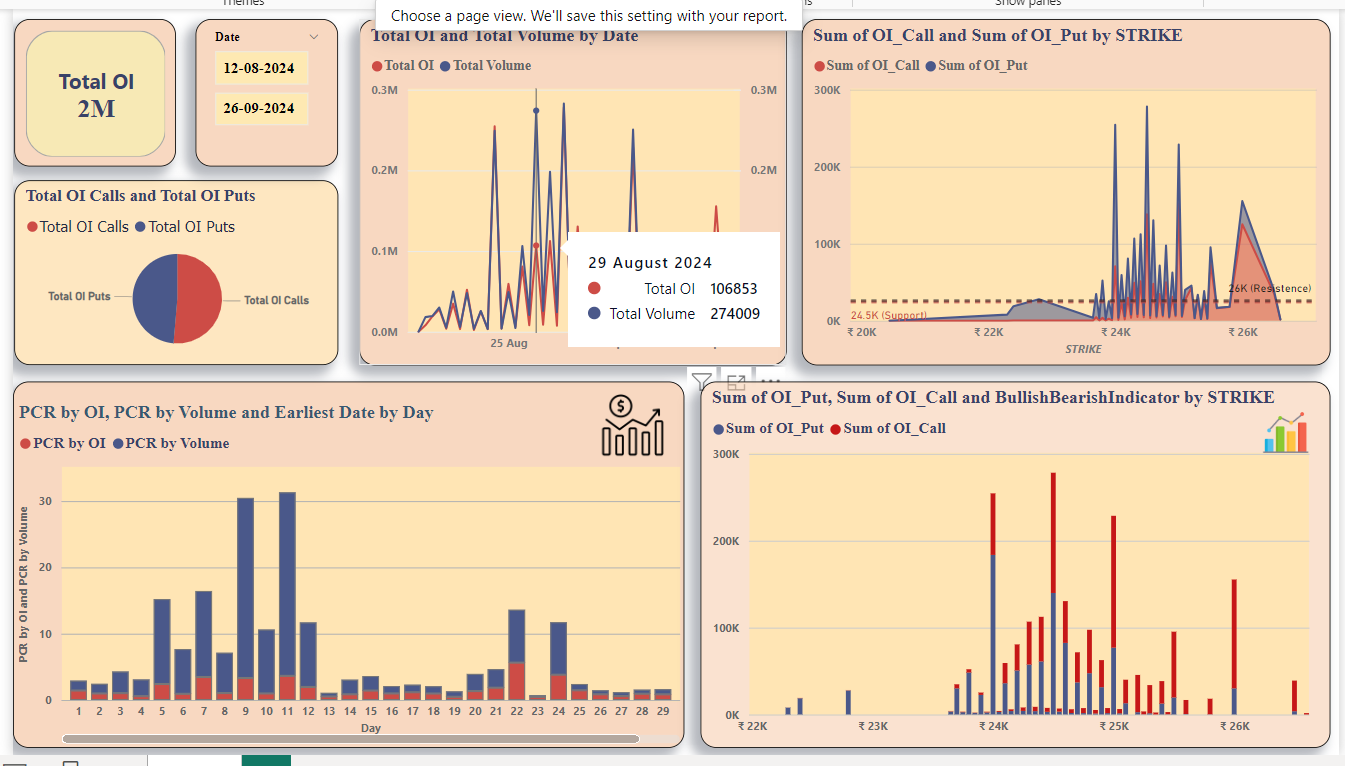

The dashboard page shown, as its layout file describes it:
{"tool":"powerbi","page":{"name":"Page 1","canvas":[1280,720],"ordinal":0},"visuals":[{"type":"cardVisual","fields":{"Data":["optionchain.Total OI"]},"box":[1.2,9.7,155.6,142.4],"z":0},{"type":"pieChart","fields":{"Y":["optionchain.Total OI Calls","optionchain.Total OI Puts"]},"box":[1.2,165.3,312.5,178.6],"z":1000},{"type":"lineChart","fields":{"Y":["optionchain.Total OI"],"Y2":["optionchain.Total Volume"],"Category":["optionchain.Date"]},"box":[334.2,9.7,412.6,334.2],"z":2000},{"type":"columnChart","fields":{"Y":["optionchain.PCR by OI","optionchain.PCR by Volume"],"Category":["optionchain.Date.Variation.Date Hierarchy.Day"]},"box":[0,359.5,647.9,353.5],"z":3000},{"type":"stackedAreaChart","fields":{"Category":["optionchain.STRIKE"],"Y":["Sum(optionchain.OI_Call)","Sum(optionchain.OI_Put)"]},"box":[761.3,9.7,510.3,334.2],"z":4000},{"type":"columnChart","fields":{"Category":["optionchain.STRIKE"],"Y":["Sum(optionchain.OI_Put)","Sum(optionchain.OI_Call)"]},"box":[663.5,359.5,608,353.5],"z":5000},{"type":"image","box":[548.9,366.8,98.9,70],"z":6000},{"type":"image","box":[1184.7,380,86.9,56.7],"z":7000},{"type":"slicer","fields":{"Values":["optionchain.Date"]},"box":[176.1,9.7,137.5,142.4],"z":8000}]}

Visuals, with their boxes in screenshot pixels (x1, y1, x2, y2):
cardVisual - optionchain.Total OI: (8,17,169,165)
pieChart - optionchain.Total OI Calls x optionchain.Total OI Puts: (8,178,332,363)
lineChart - optionchain.Total OI x optionchain.Total Volume: (353,17,781,363)
columnChart - optionchain.PCR by OI x optionchain.PCR by Volume: (7,380,678,746)
stackedAreaChart - optionchain.STRIKE x Sum(optionchain.OI_Call): (796,17,1325,363)
columnChart - optionchain.STRIKE x Sum(optionchain.OI_Put): (695,380,1325,746)
image: (576,387,678,460)
image: (1235,401,1325,460)
slicer - optionchain.Date: (189,17,332,165)
